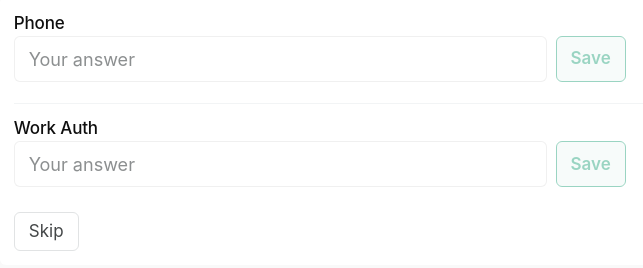
Test case: StuckFieldsPrompt — compact (inline per-item save) › save button enables only when its own input has a value
Step 1. Type "555-1234" into the field named "Answer for: Phone" → (280, 59), box left=14, top=36, right=547, bottom=82
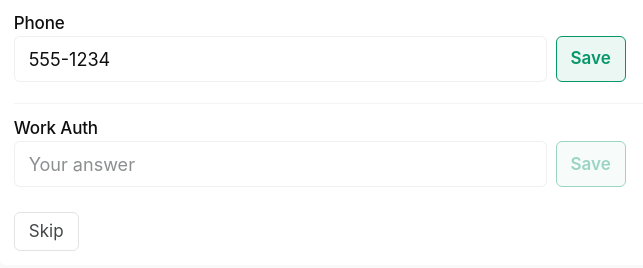
Expected: the 2nd button "Save" is disabled, left=556, top=141, right=626, bottom=187
Result: the 1st button "Save" is enabled at left=556, top=36, right=626, bottom=82
